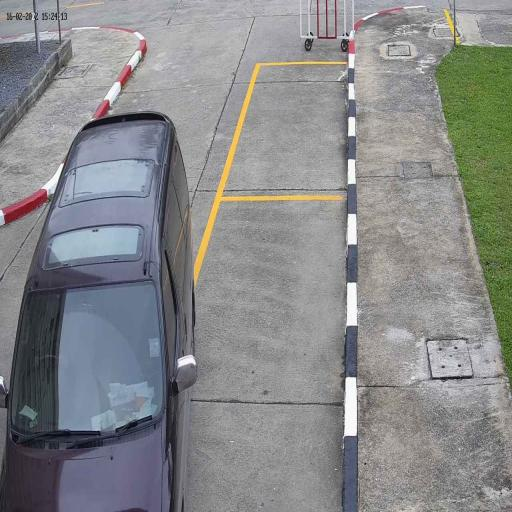car: (0, 107, 201, 511)
